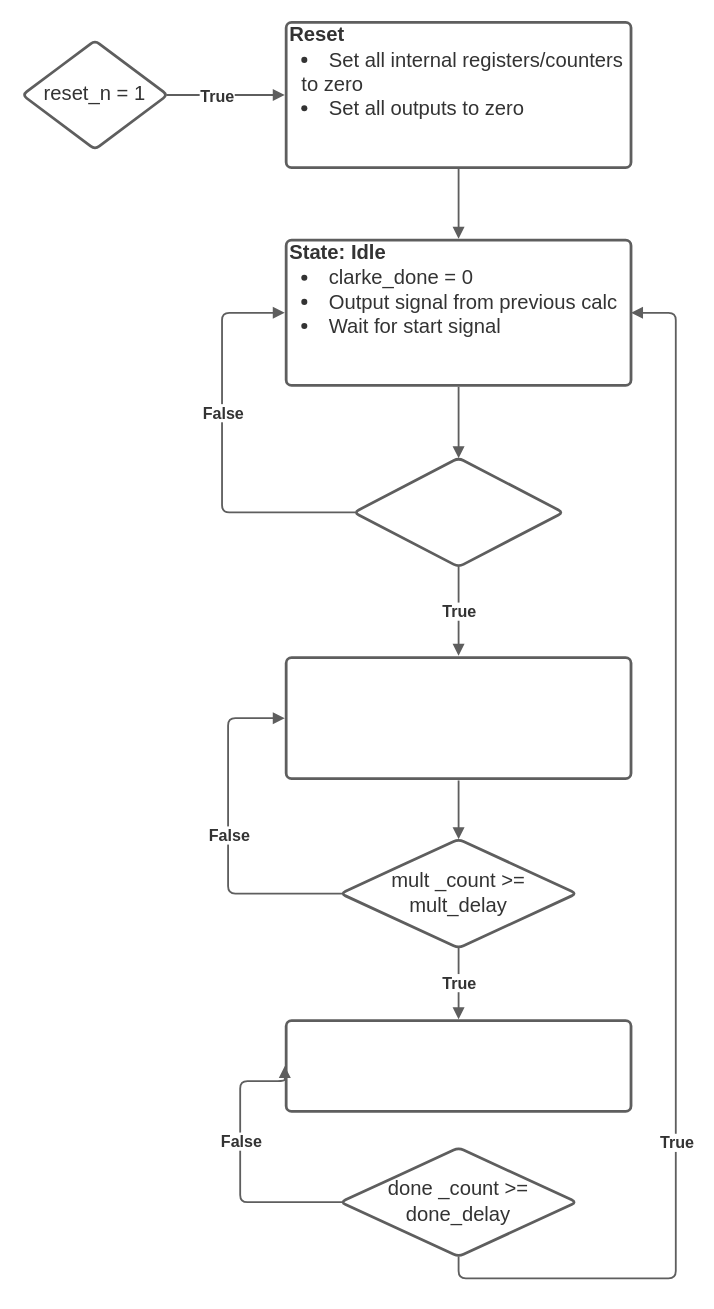
Some shapes in this 714 by 1309 pixel diagram are drawn without their labels. The box of each missing label's shape, as (x1, y1, x2, y2) in pixels:
clarke_start = 1: (352, 456, 564, 568)
State: DONE clarke_done = 1: (284, 1019, 632, 1112)
State: Multiply Multipy y_a, y_b, y_c to obtain y_alpha, y_beta, y_zeta: (284, 656, 632, 779)
